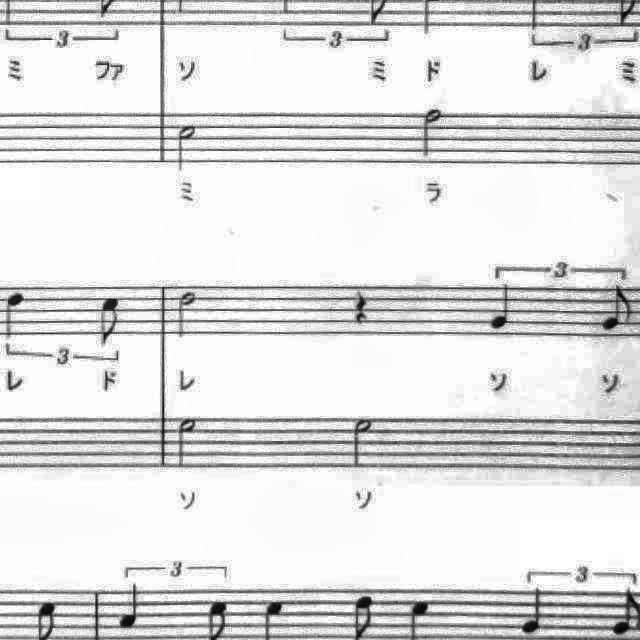Eighth-note: (92, 290, 128, 352), (596, 283, 636, 337)
Half-note: (414, 102, 451, 166), (169, 119, 205, 178), (170, 412, 203, 476), (346, 413, 380, 475), (170, 286, 202, 344)
Quarter-note: (515, 582, 555, 638), (483, 280, 521, 336), (112, 578, 148, 634), (1, 286, 32, 342)
Quarter-rest: (347, 281, 377, 329)
